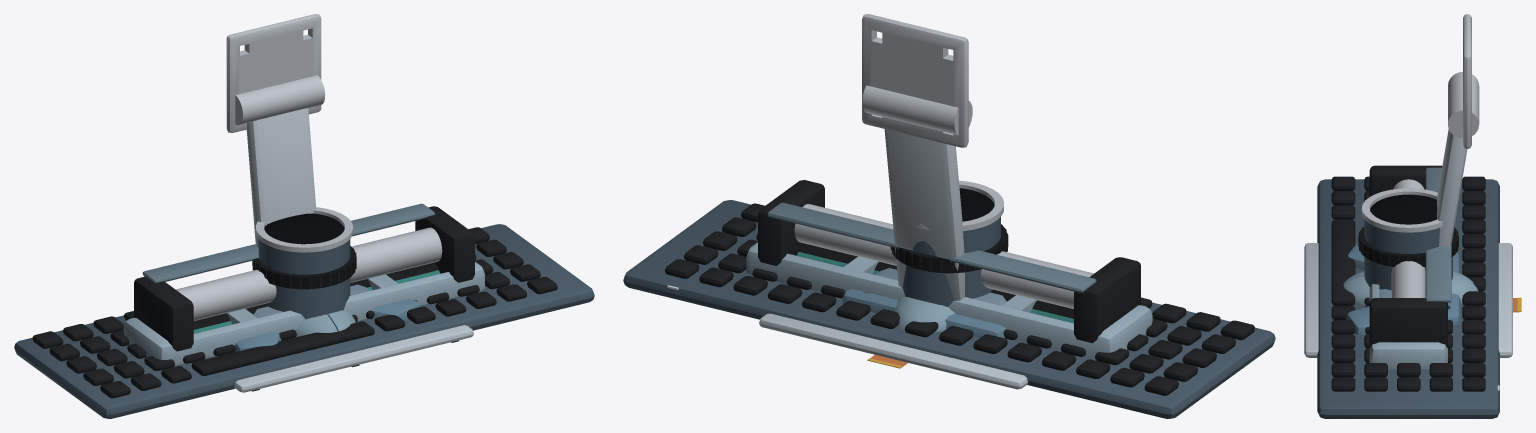
The model's file is facultad.glb.
3 views of the same model, side by side, from view 1: azimuth 30°, elevation 25°; view 2: azimuth 150°, elevation 25°; view 3: azimuth 270°, elevation 25° (orthographic). The views are drawn at different scales.
Parts seen in each view (by area): view 1: teclado__cuerpo, teclado__plastico, soporte_monitor__cuerpo, soporte_monitor__metal, carcasa_zapatilla__cuerpo, unidad_fusora__metal, unidad_fusora__plastico, lente_proyector__cuerpo, unidad_fusora__cuerpo, lente_proyector__vidrio, lente_proyector__metal, lente_proyector__goma (+4 smaller); view 2: teclado__cuerpo, teclado__plastico, soporte_monitor__cuerpo, soporte_monitor__metal, carcasa_zapatilla__cuerpo, unidad_fusora__plastico, unidad_fusora__cuerpo, unidad_fusora__metal, lente_proyector__cuerpo, carcasa_mando__cuerpo, carcasa_mouse__cuerpo, unidad_fusora__goma (+3 smaller); view 3: teclado__cuerpo, teclado__plastico, soporte_monitor__cuerpo, unidad_fusora__plastico, soporte_monitor__metal, lente_proyector__cuerpo, carcasa_zapatilla__cuerpo, unidad_fusora__cuerpo, lente_proyector__vidrio, unidad_fusora__metal, lente_proyector__metal, carcasa_mando__cuerpo (+3 smaller).
Part boxes in pixels (<box>): teclado__cuerpo: <box>14,224,594,418</box>; teclado__plastico: <box>32,227,557,398</box>; soporte_monitor__cuerpo: <box>234,108,473,392</box>; soporte_monitor__metal: <box>226,14,325,132</box>; carcasa_zapatilla__cuerpo: <box>124,262,484,365</box>; unidad_fusora__metal: <box>176,227,442,320</box>; unidad_fusora__plastico: <box>134,206,474,351</box>; lente_proyector__cuerpo: <box>258,239,350,319</box>; unidad_fusora__cuerpo: <box>142,203,435,282</box>; lente_proyector__vidrio: <box>264,213,344,244</box>; lente_proyector__metal: <box>256,207,352,252</box>; lente_proyector__goma: <box>253,246,355,289</box>; teclado__cuerpo: <box>623,200,1275,418</box>; teclado__plastico: <box>665,203,1254,395</box>; soporte_monitor__cuerpo: <box>759,129,1027,389</box>; soporte_monitor__metal: <box>862,14,972,147</box>; carcasa_zapatilla__cuerpo: <box>746,242,1152,358</box>; unidad_fusora__plastico: <box>758,180,1140,343</box>; unidad_fusora__cuerpo: <box>767,202,1096,292</box>; unidad_fusora__metal: <box>794,204,1093,308</box>; lente_proyector__cuerpo: <box>902,217,1000,306</box>; carcasa_mando__cuerpo: <box>842,289,1006,338</box>; carcasa_mouse__cuerpo: <box>893,296,954,332</box>; unidad_fusora__goma: <box>798,243,1073,318</box>; teclado__cuerpo: <box>1317,179,1499,418</box>; teclado__plastico: <box>1331,176,1485,391</box>; soporte_monitor__cuerpo: <box>1304,129,1512,357</box>; unidad_fusora__plastico: <box>1369,165,1447,347</box>; soporte_monitor__metal: <box>1448,14,1479,148</box>; lente_proyector__cuerpo: <box>1364,219,1452,290</box>; carcasa_zapatilla__cuerpo: <box>1369,284,1447,369</box>; unidad_fusora__cuerpo: <box>1425,167,1451,302</box>; lente_proyector__vidrio: <box>1370,194,1437,224</box>; unidad_fusora__metal: <box>1391,179,1425,297</box>; lente_proyector__metal: <box>1361,188,1442,232</box>; carcasa_mando__cuerpo: <box>1346,243,1460,335</box>.
Bounding box in the file's own units: 42 × 24.8 × 16.65.
